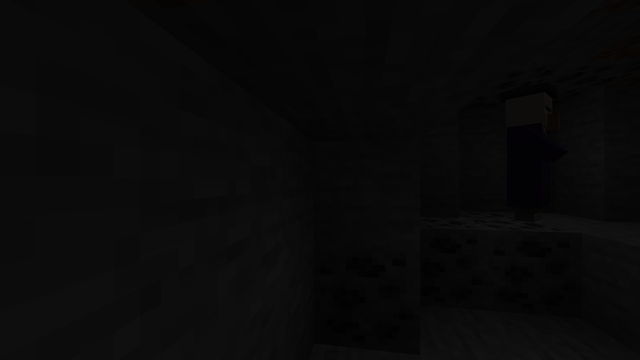sorcieres: (497, 86, 565, 223)
